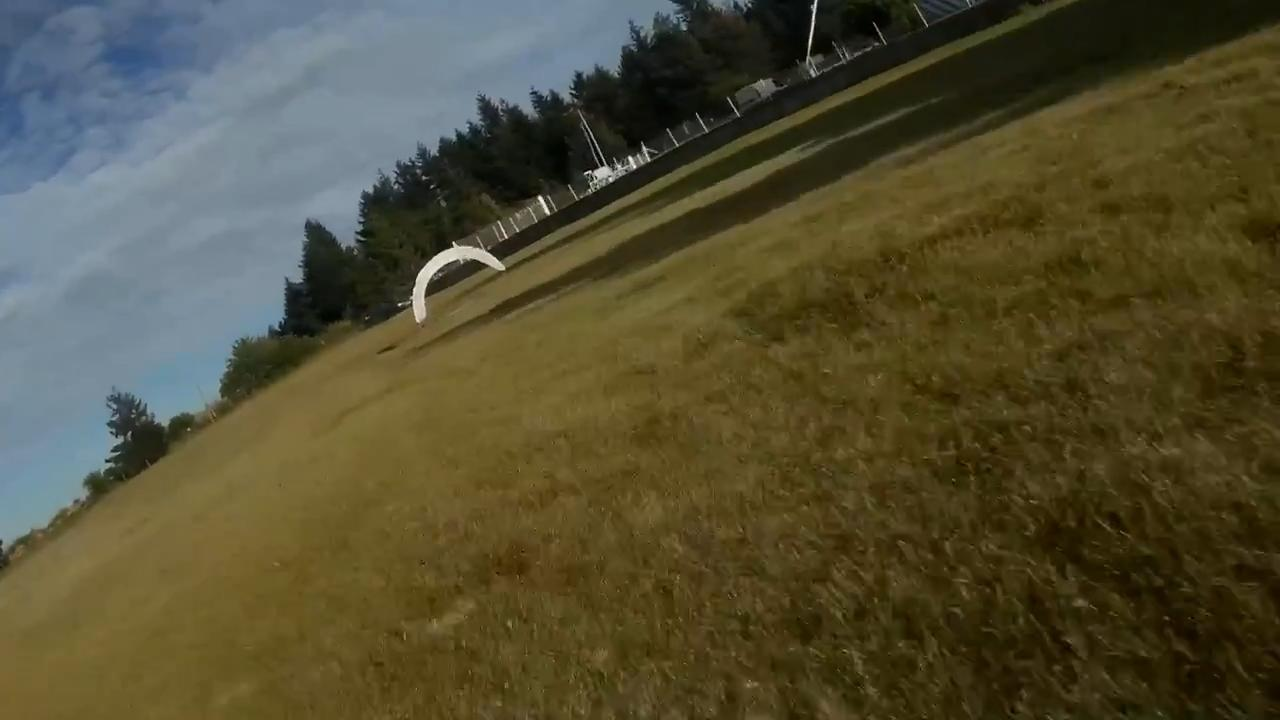gate: (410, 245, 506, 323)
